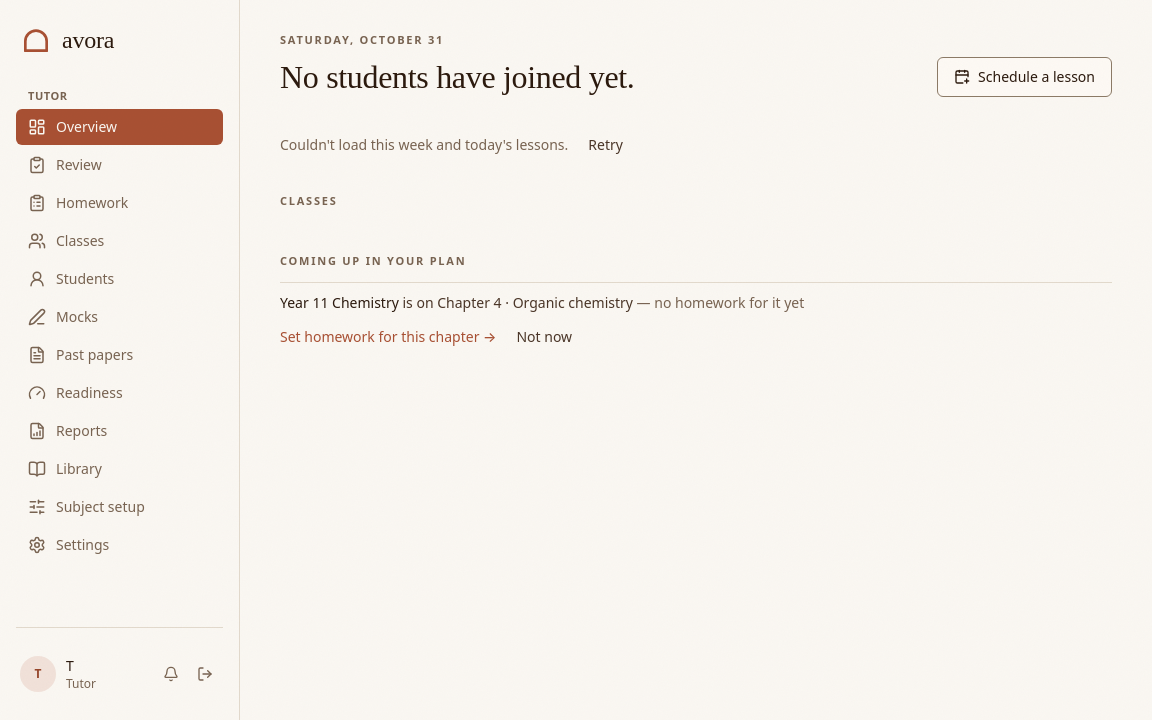
Scenario: hiding the last prompt removes the whole section, heading included
Check: the heading "Coming up in your plan" is shown, box [280, 253, 466, 268]
Click the button with aria-label "Not now: Year 11 Chemistry, Chapter 4".
click(544, 336)  # box [504, 320, 584, 352]
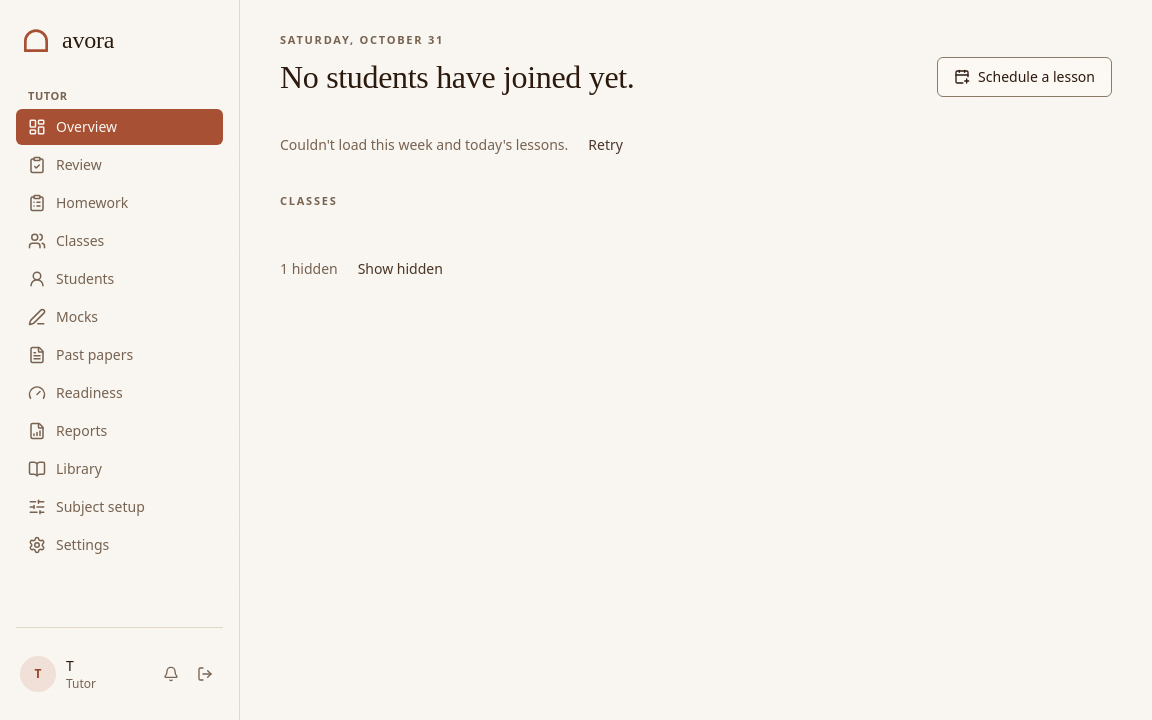
Check: the heading "Coming up in your plan" is gone
Check: the text "1 hidden" is shown, box [280, 253, 455, 285]
